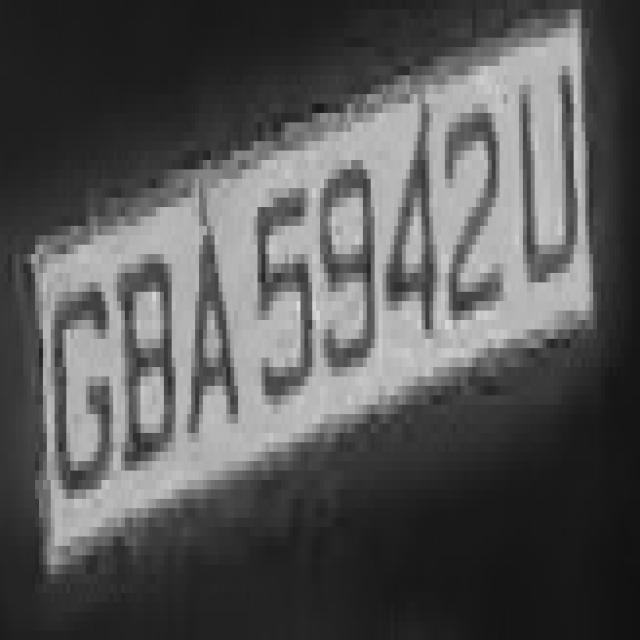2: (445, 66, 511, 367)
4: (371, 75, 445, 367)
5: (238, 151, 312, 414)
9: (304, 132, 382, 386)
A: (168, 179, 242, 452)
B: (106, 216, 180, 480)
G: (43, 236, 109, 508)
U: (515, 47, 585, 292)
